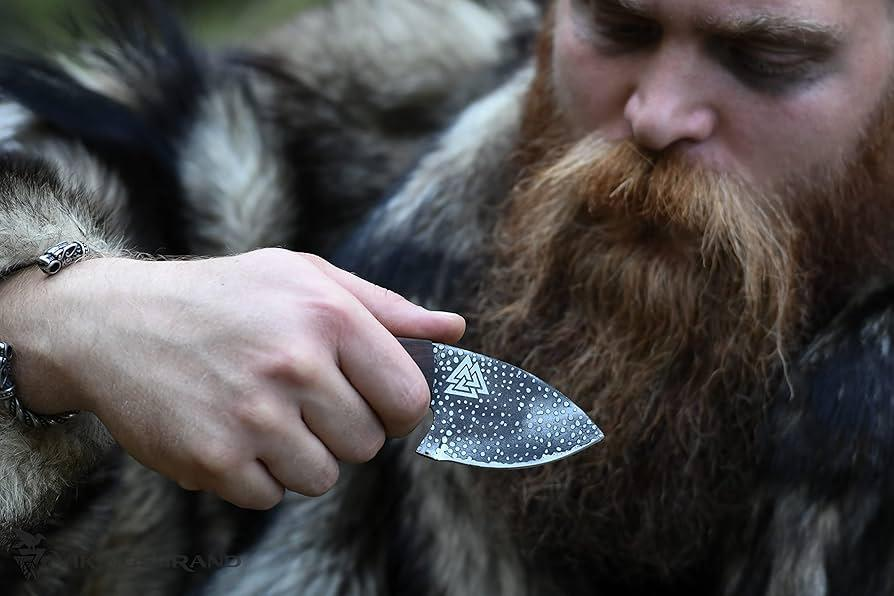Knife: (0, 0, 894, 596), (130, 243, 466, 514), (421, 337, 602, 471)
